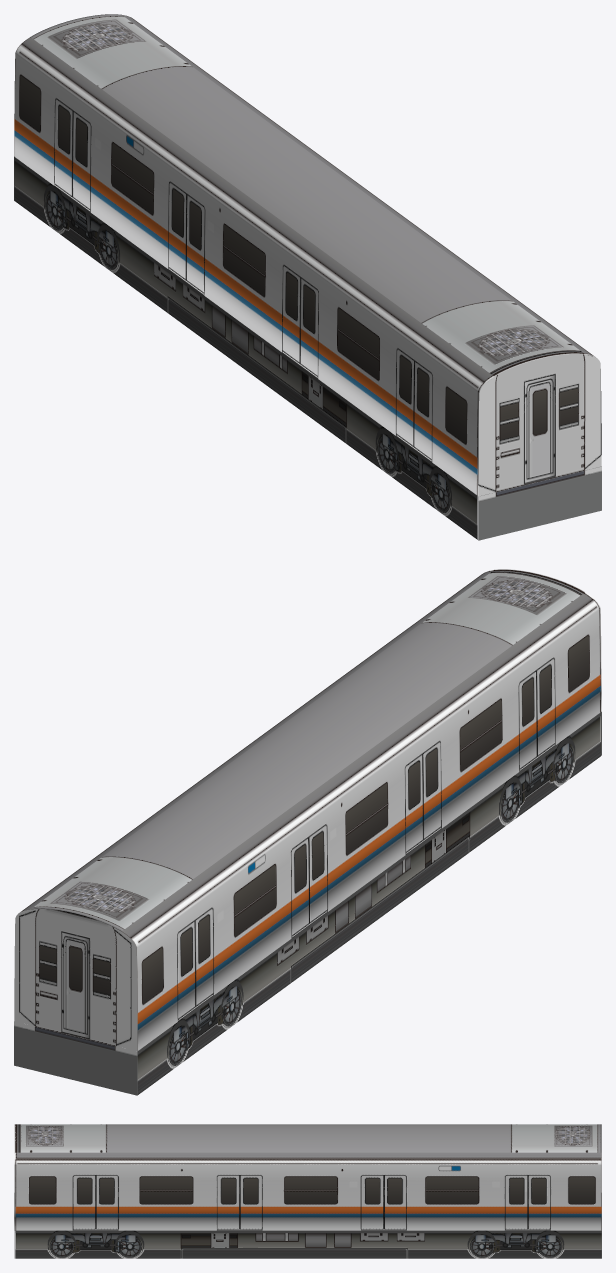
The model's file is car3.glb.
3 views of the same model, one above another, from view 1: azimuth 30°, elevation 25°; view 2: azimuth 150°, elevation 25°; view 3: azimuth 270°, elevation 25° (orthographic). The views are drawn at different scales.
Parts seen in each view (by area): view 1: kintetsu-7020-car3; view 2: kintetsu-7020-car3; view 3: kintetsu-7020-car3.
Part boxes in pixels (box(x1,y1,x2,y2)): kintetsu-7020-car3: box(14, 14, 601, 540); kintetsu-7020-car3: box(14, 569, 601, 1095); kintetsu-7020-car3: box(14, 1124, 601, 1258).
Size of the model in its own units: 2.9 by 3.74 by 18.93.
Materials: 9 (8 with a texture image).
